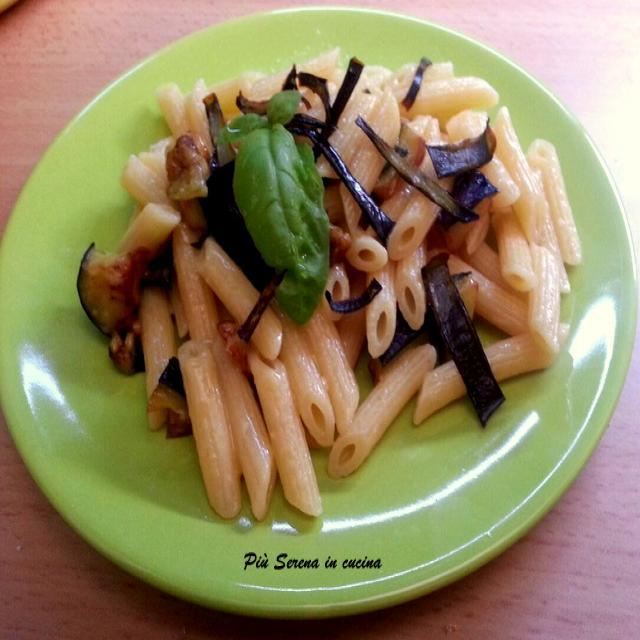Pasta with carbonara sauce: (51, 20, 629, 528)
